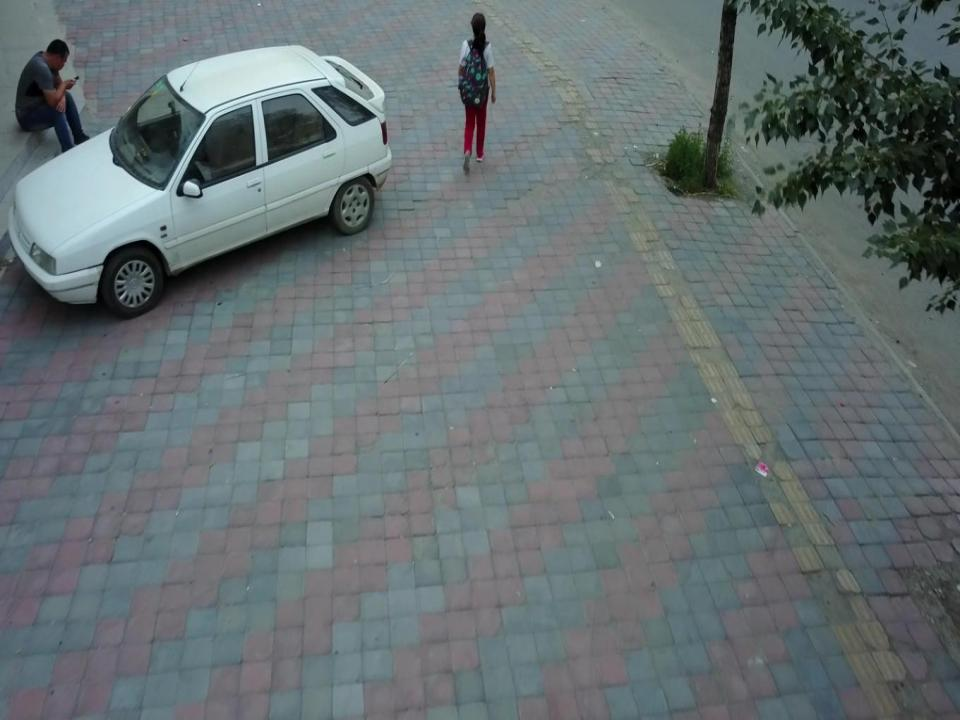car: (7, 43, 392, 320)
